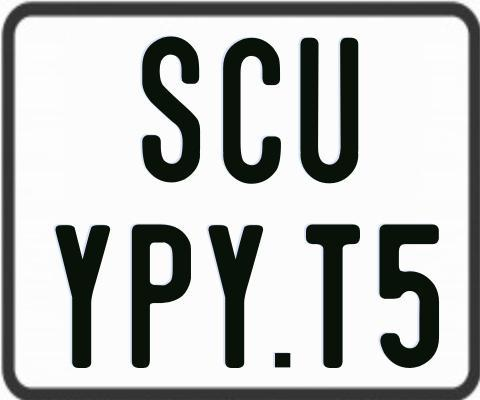5: (376, 224, 441, 372)
C: (220, 35, 284, 185)
P: (129, 223, 193, 369)
S: (142, 34, 206, 180)
T: (305, 221, 363, 371)
U: (300, 36, 363, 185)
Y: (205, 225, 264, 373), (54, 224, 112, 370)
